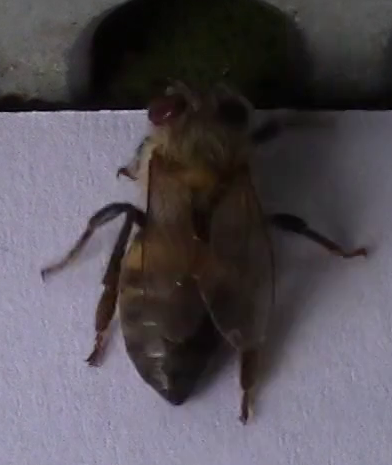Varroa destructor: (148, 92, 192, 127)
